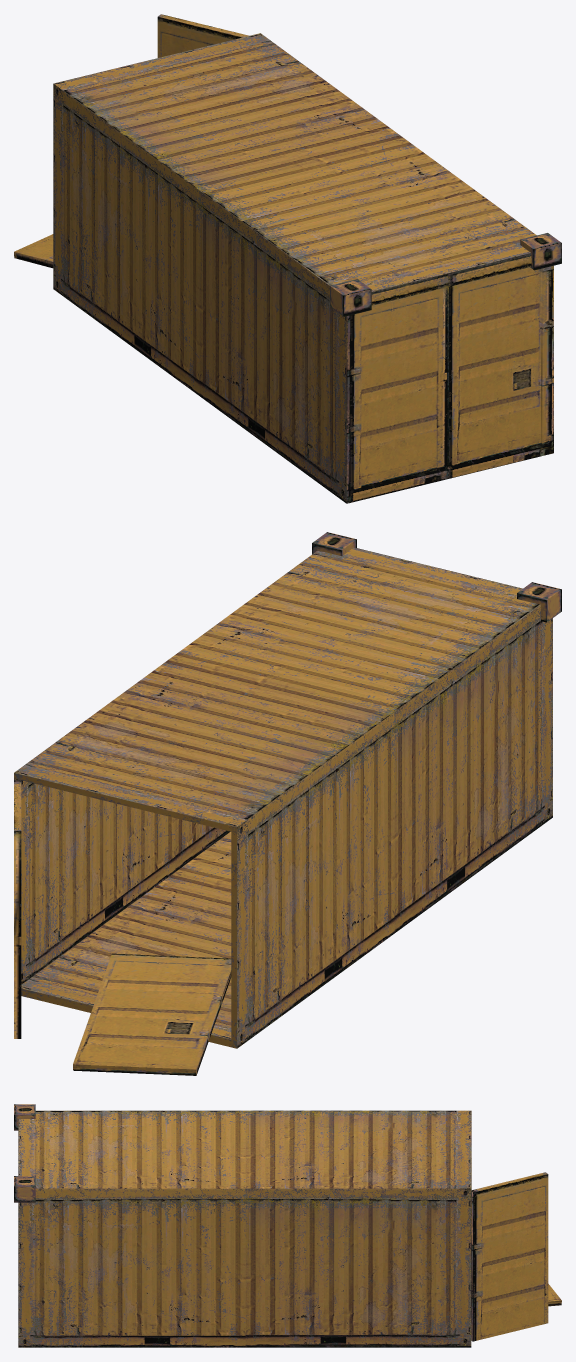
Rendered from Cover_Container07.glb.
3 views of the same model, one above another, from view 1: azimuth 30°, elevation 25°; view 2: azimuth 150°, elevation 25°; view 3: azimuth 270°, elevation 25° (orthographic). The views are drawn at different scales.
Visible parts, largest first — view 1: xiutz_container07; view 2: xiutz_container07; view 3: xiutz_container07.
Part boxes in pixels (x1,y1,x2,y2): xiutz_container07: (14, 14, 561, 503); xiutz_container07: (14, 532, 561, 1075); xiutz_container07: (14, 1104, 561, 1347).
Size of the model in its own units: 4.81 by 4.47 by 13.57.
Materials: 1 (1 with a texture image).
